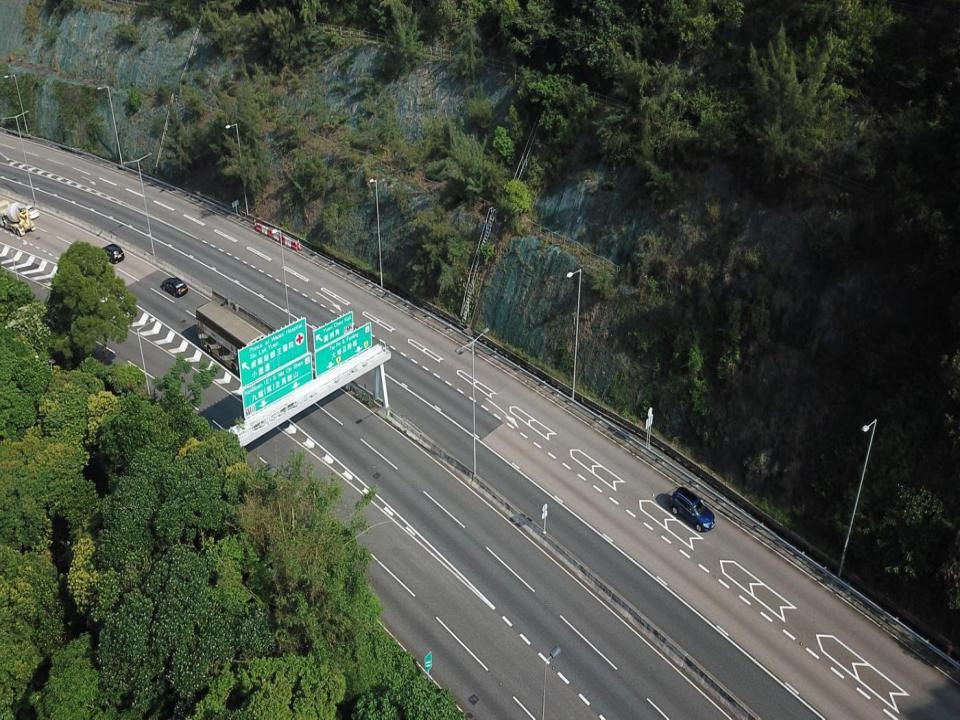bus: (196, 300, 270, 384)
car: (669, 486, 716, 533), (162, 276, 188, 298), (99, 243, 125, 264), (22, 205, 40, 219)
truck: (0, 198, 36, 237)
